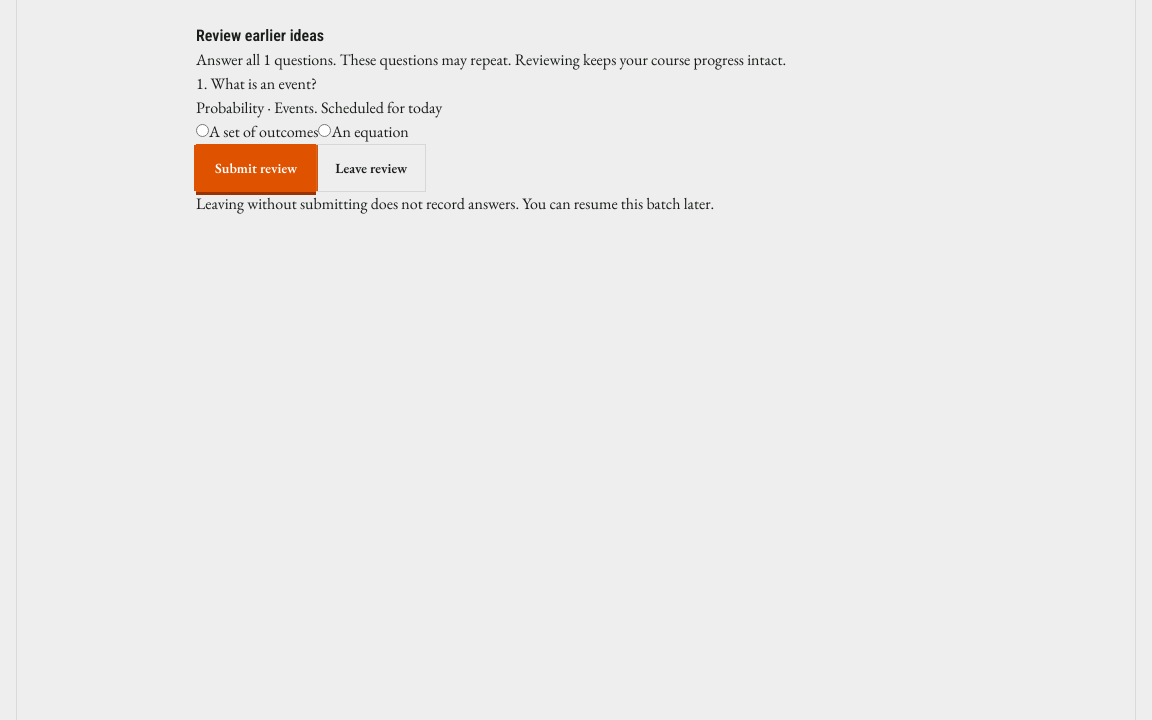
Test case: validates full coverage and retains answers on transport failure
Step 1. Click the button "Submit review" → (256,168), box [196,144,316,192]
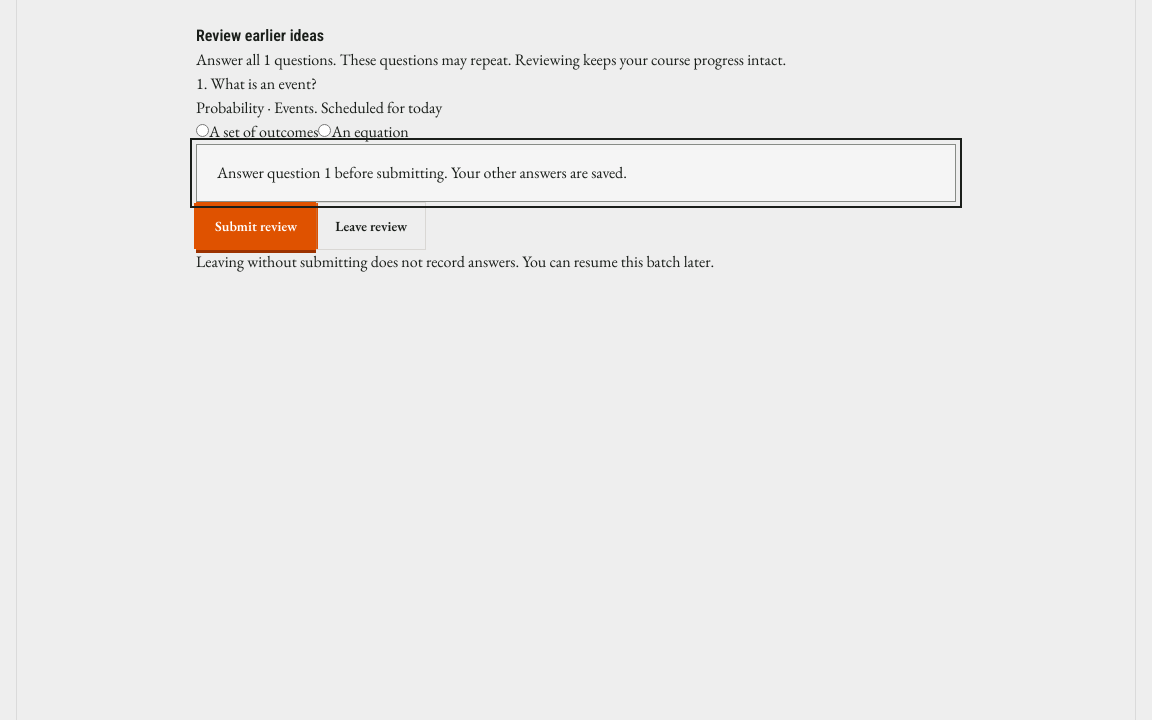
Expected: the message shows "Answer question 1", [217,162,627,183]
Step 2. Click the radio button labelled "A set of outcomes" → (202,130), box [196,124,209,137]
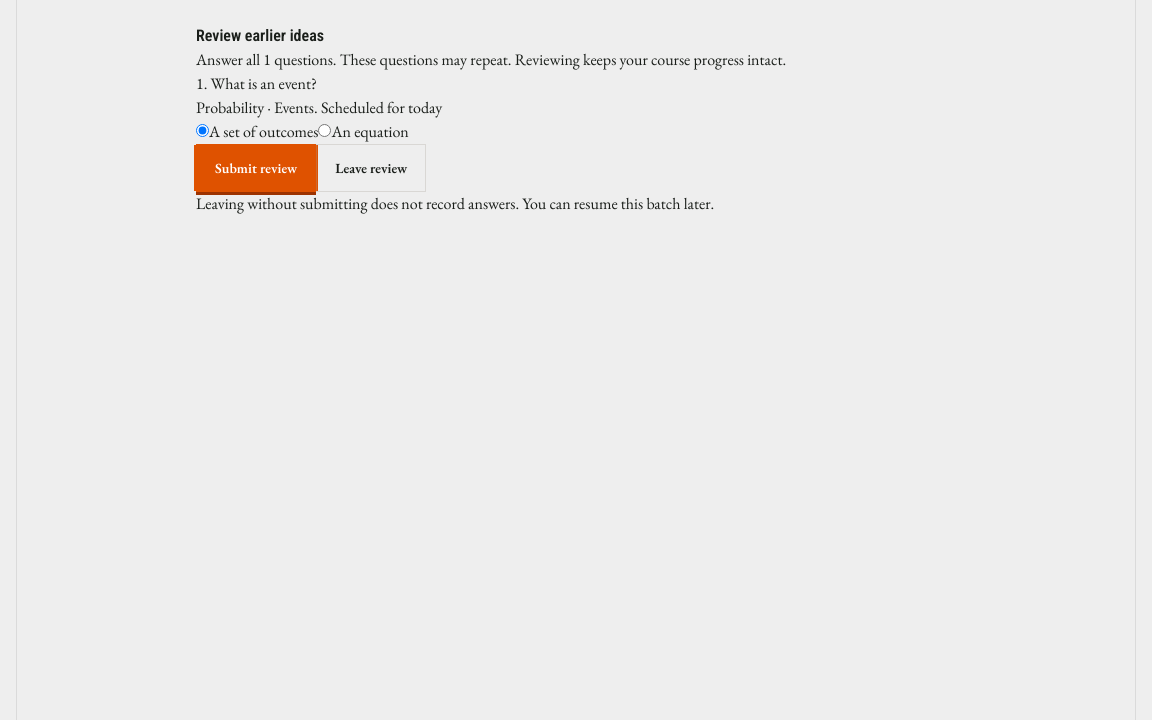
Step 3. Click the button "Submit review" → (256,168), box [196,144,316,192]
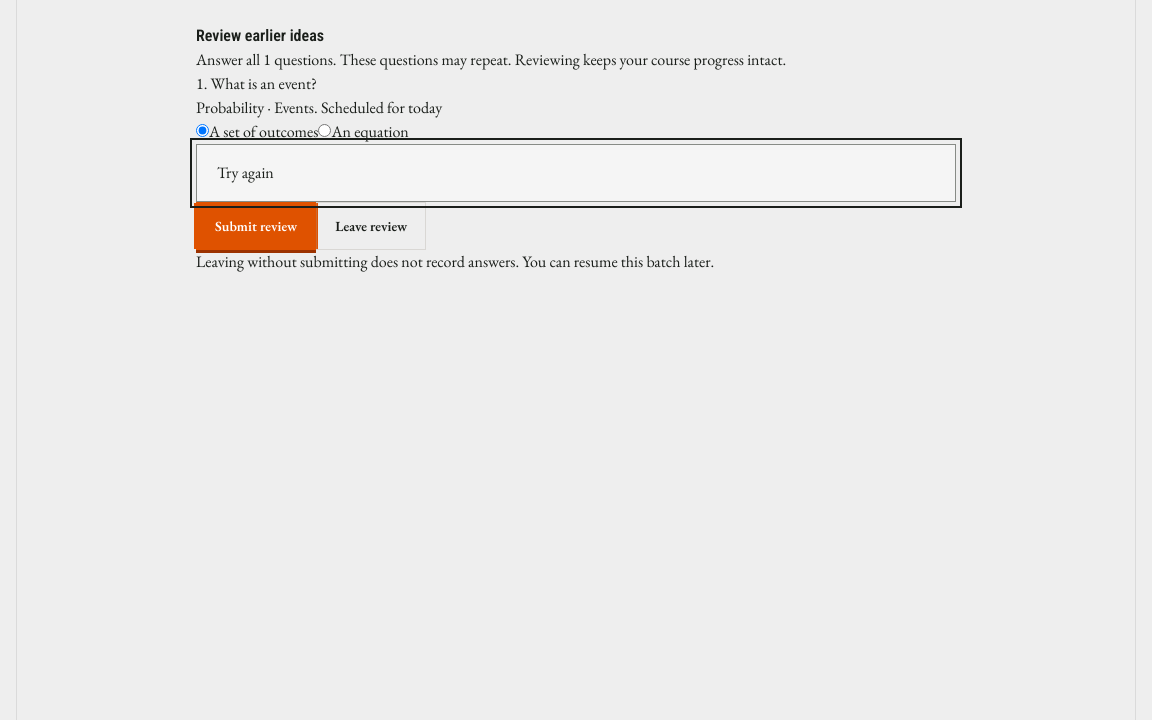
Expected: the radio button labelled "A set of outcomes" is checked, [196,124,209,137]
Expected: the message reads "Try again", [217,162,274,183]
